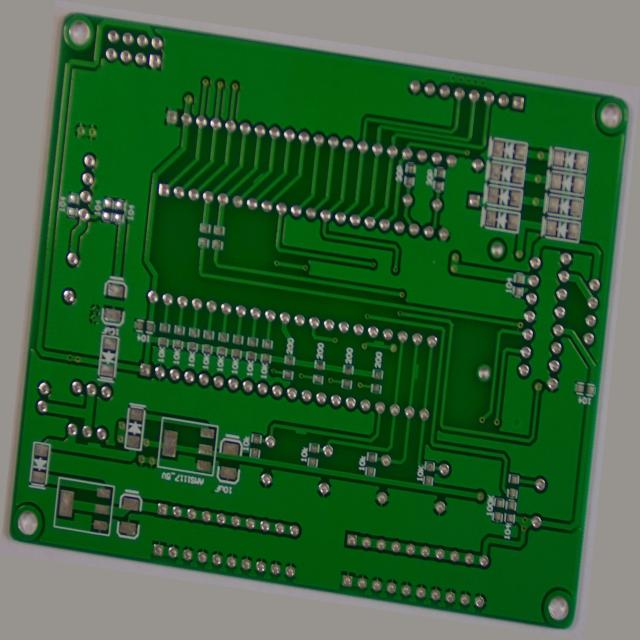spur: (78, 493, 101, 511), (422, 348, 434, 376), (230, 158, 247, 177), (302, 443, 321, 457), (378, 329, 394, 343)
